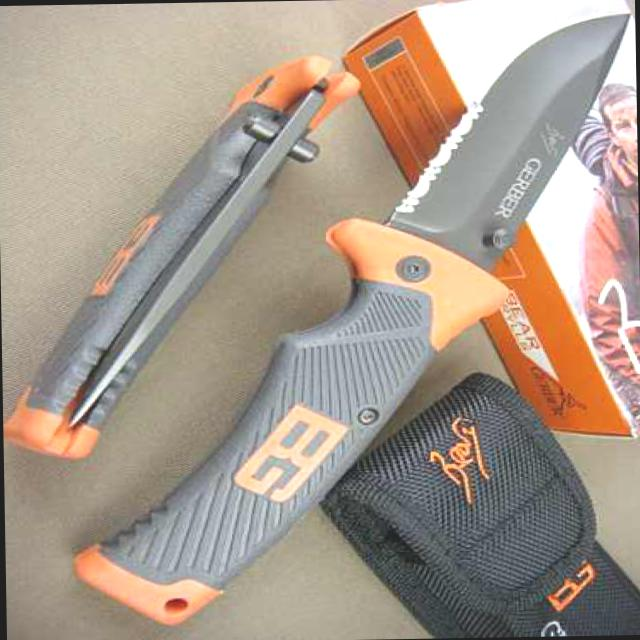knife: (379, 10, 637, 268)
